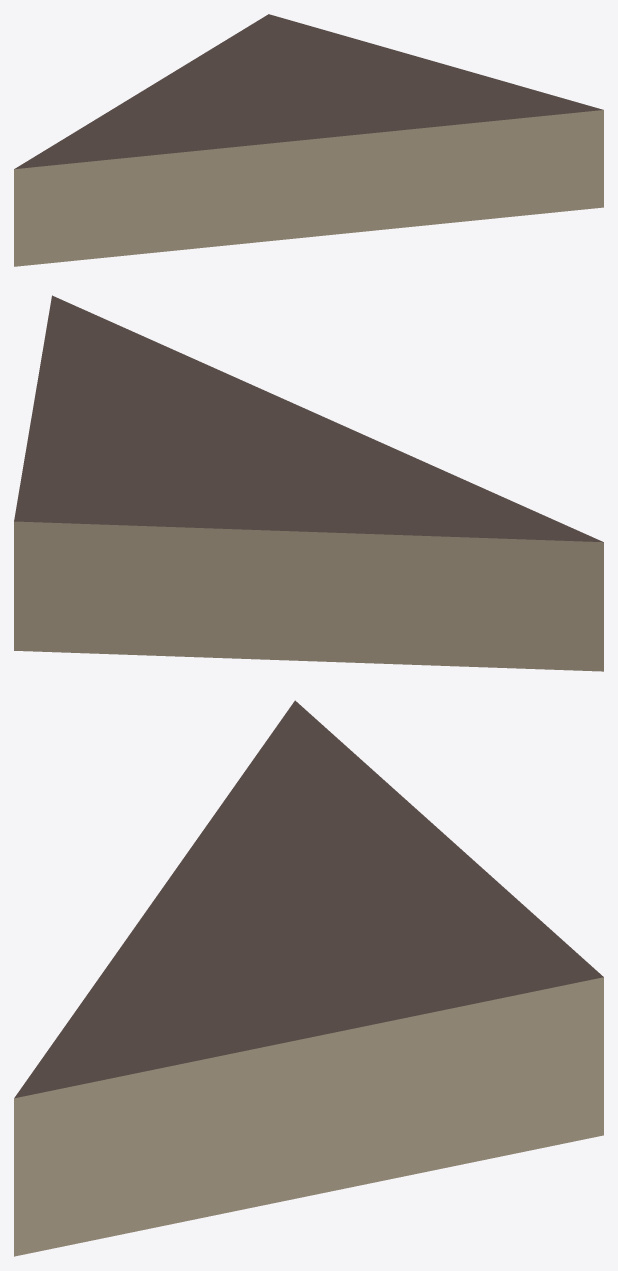
The picture shows the model from 3 angles, top to bottom: view 1: azimuth 30°, elevation 25°; view 2: azimuth 150°, elevation 25°; view 3: azimuth 270°, elevation 25°; orthographic projection. The views are drawn at different scales.
Parts seen in each view (by area): view 1: HP-w159947153; view 2: HP-w159947153; view 3: HP-w159947153.
Part boxes in pixels (x1,y1,x2,y2): HP-w159947153: (14,14,603,266); HP-w159947153: (14,295,603,671); HP-w159947153: (14,700,603,1256).
Bounding box in the file's own units: 48.56 × 9 × 30.41.
